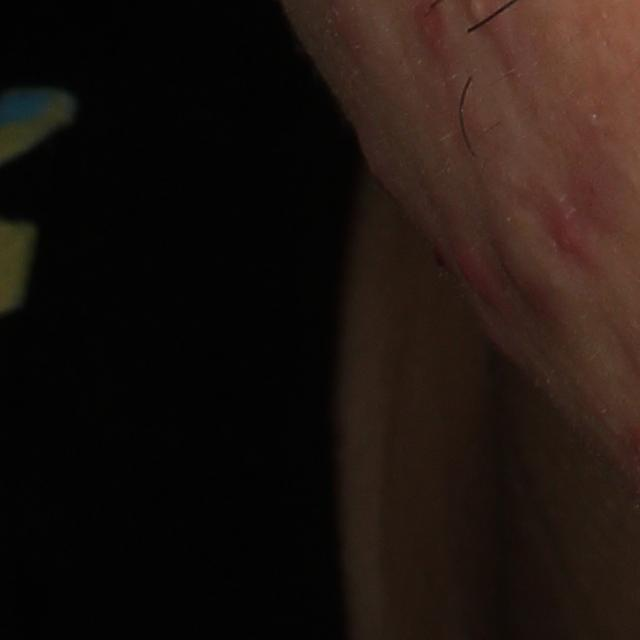papule: (450, 246, 505, 316), (547, 199, 588, 258)
